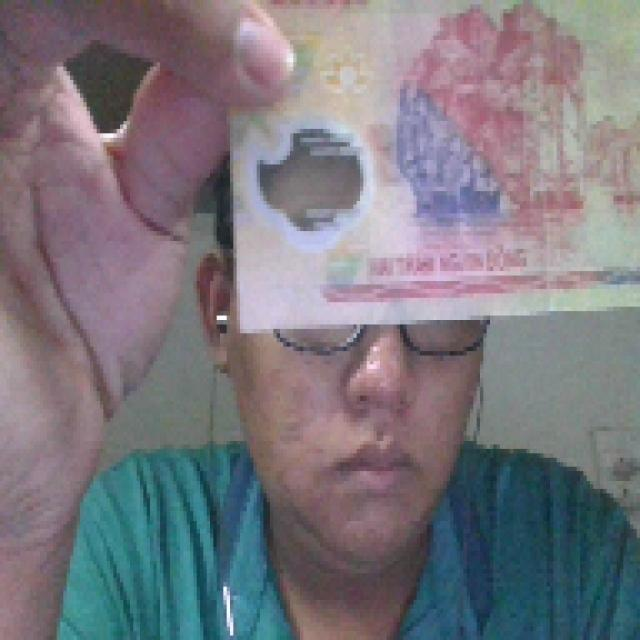200 000 VND: (220, 0, 636, 333)
